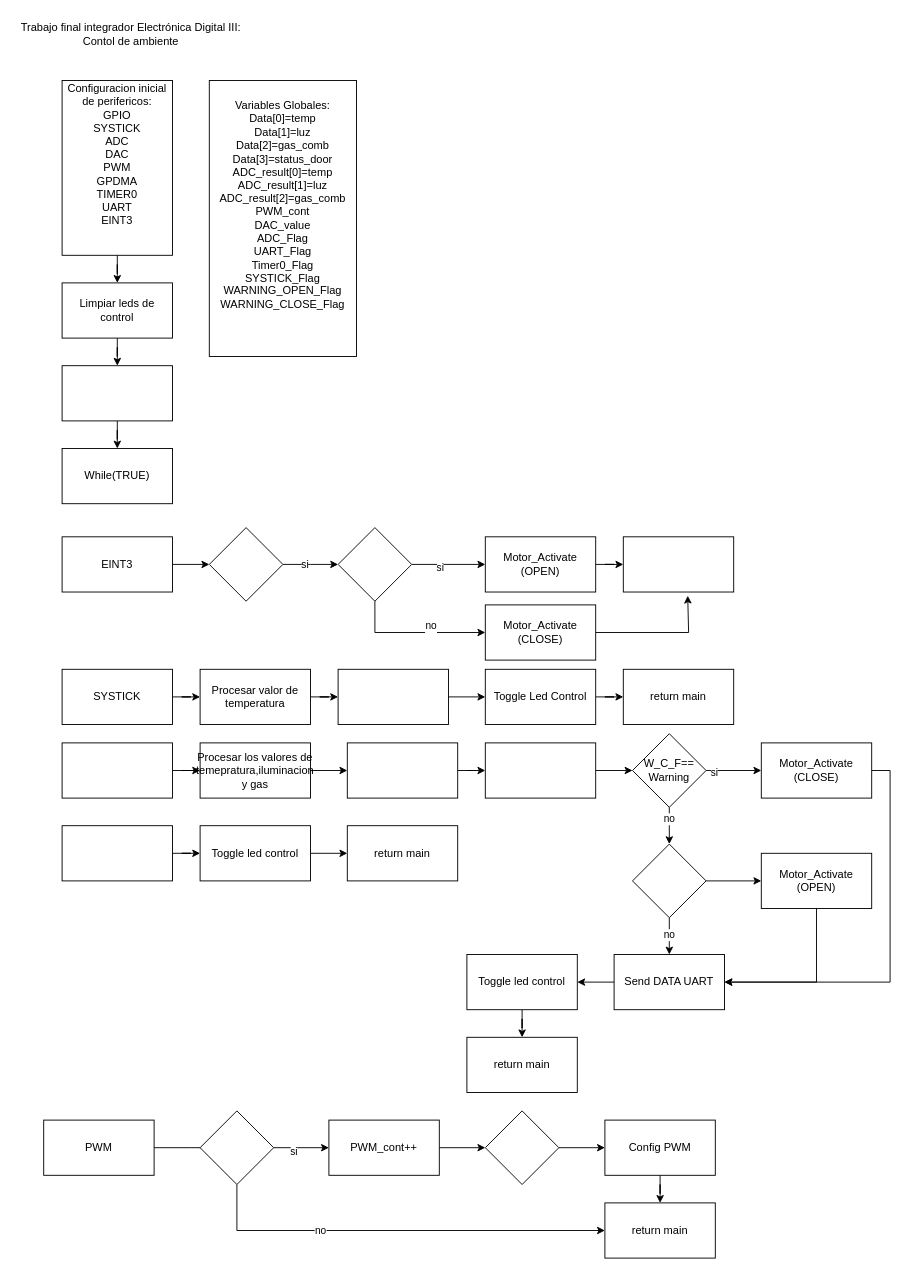
The diagram is 914 pixels wide and 1274 high, and some of its shapes have lost their labels. Each missing label, with the box of its shape:
Actualizar estado de la puerta: (346, 742, 458, 798)
Check_Mesures(): (484, 742, 596, 798)
Clear_Flag_Eint3 return main: (622, 536, 734, 592)
Disparar Timer0: (61, 365, 172, 421)
Flag_Eint3 ==0: (208, 527, 283, 601)
Flag_PWM1: (199, 1110, 274, 1184)
FlagDoor ==0: (337, 527, 412, 601)
PWMcont== MAX_value: (484, 1110, 559, 1184)
TIMER0: (61, 742, 172, 798)
UART2: (61, 825, 172, 881)
UpdateDACValue: (337, 668, 448, 724)
W_O_F== Warning: (632, 843, 706, 918)
